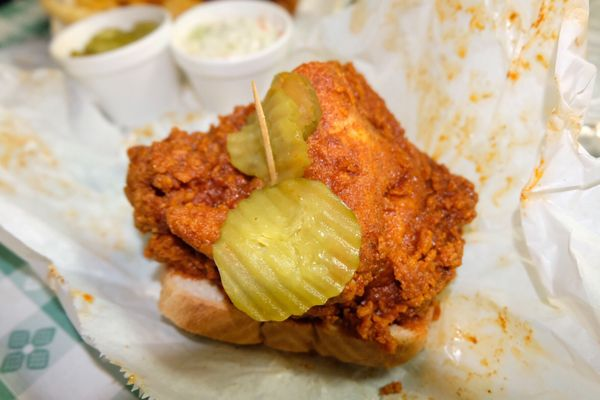pizza: (48, 3, 190, 148)
soup: (124, 59, 476, 368)
sushi: (168, 0, 295, 114)
